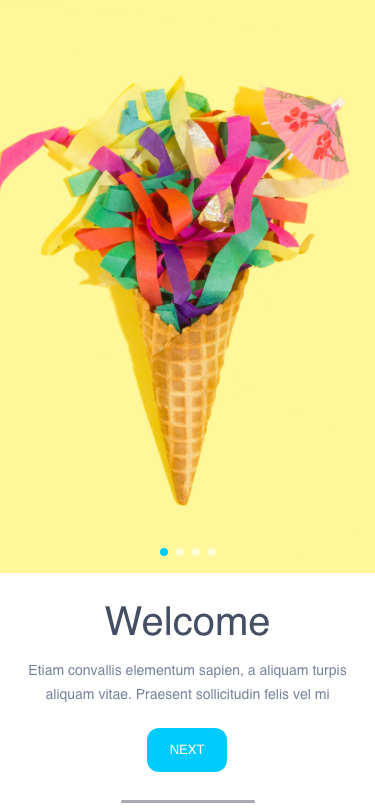Image: (1, 76, 351, 506)
PageIndicator: (160, 547, 217, 557)
Text: (29, 665, 347, 703), (105, 606, 270, 637)
TextButton: (147, 727, 228, 772)
